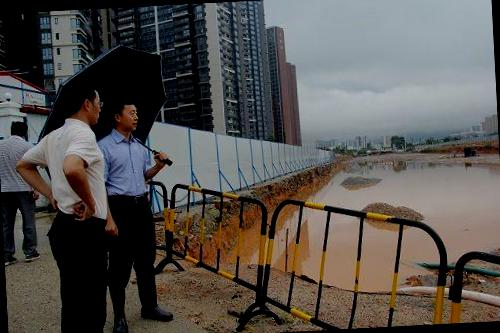no_helmet: (54, 76, 108, 128), (103, 92, 145, 132), (7, 116, 34, 146)
